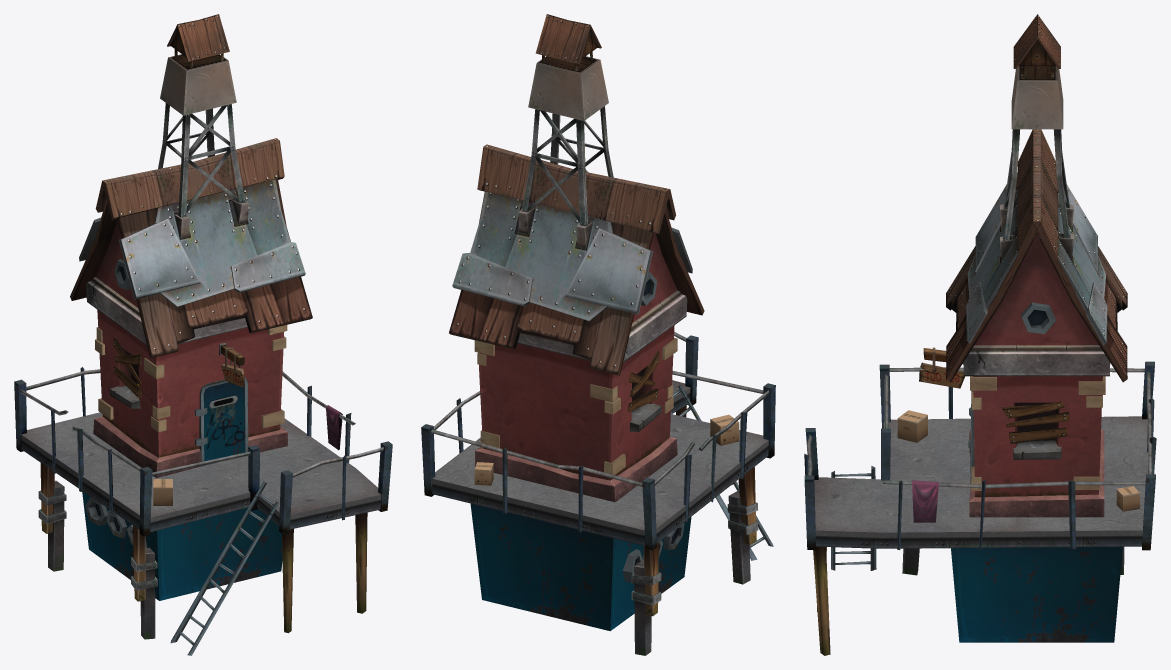
The model's file is house.glb.
The picture shows the model from 3 angles, left to right: view 1: azimuth 30°, elevation 25°; view 2: azimuth 150°, elevation 25°; view 3: azimuth 270°, elevation 25°; orthographic projection. The views are drawn at different scales.
Visible parts, largest first — view 1: hermitage_house, other_objects; view 2: hermitage_house, other_objects; view 3: hermitage_house, other_objects.
Part boxes in pixels (<box>): hermitage_house: <box>14,14,392,639</box>; other_objects: <box>153,405,342,655</box>; hermitage_house: <box>421,14,775,655</box>; other_objects: <box>474,385,773,560</box>; hermitage_house: <box>804,14,1156,655</box>; other_objects: <box>831,410,1139,570</box>.
Bounding box in the file's own units: 3.81 × 8.99 × 4.74.
2 materials, 2 textured.
